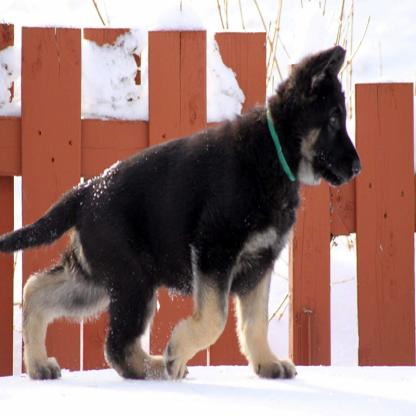dog: (1, 43, 362, 383)
